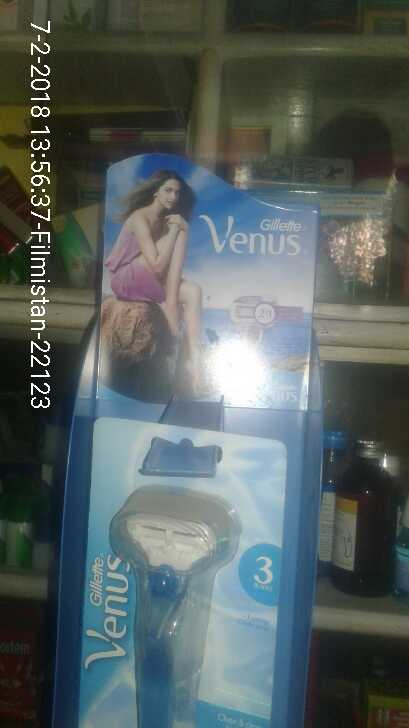venus: (107, 474, 236, 728)
